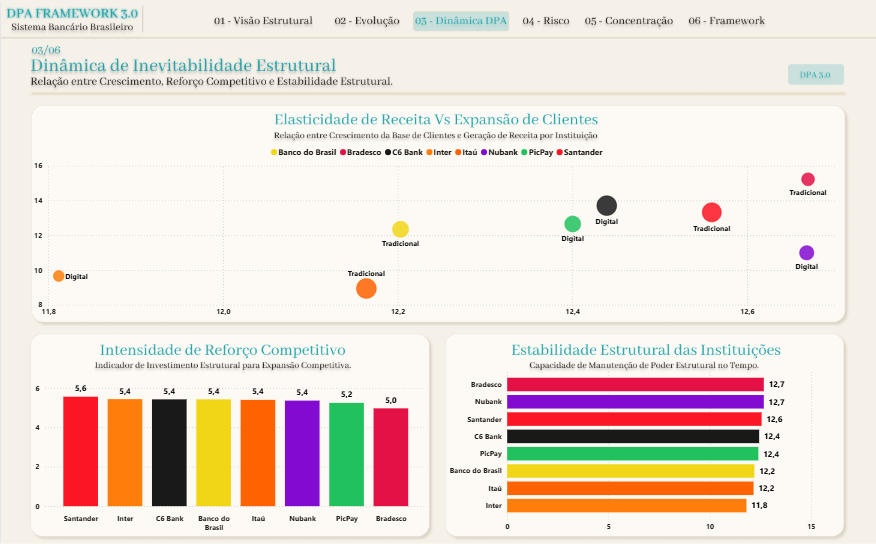

Layout of this report page (visuals, bound fields, positions):
{"tool":"powerbi","page":{"name":"Dinâmica DPA","canvas":[1460,909],"ordinal":2},"visuals":[{"type":"scatterChart","fields":{"X":["fato_financeiro_v2.Crescimento Clientes %"],"Y":["fato_financeiro_v2.Crescimento Receita %"],"Size":["fato_financeiro_v2.Clientes Totais"],"Series":["dim_banco_v2.nome_banco"],"Category":["dim_banco_v2.tipo_banco"]},"box":[50,233.8,1356.2,305],"z":0},{"type":"barChart","fields":{"Category":["dim_banco_v2.nome_banco"],"Y":["fato_financeiro_v2.Reforco"]},"box":[741.2,605,663.8,290],"z":1000},{"type":"columnChart","fields":{"Category":["dim_banco_v2.nome_banco"],"Y":["fato_financeiro_v2.Estabilidade"]},"box":[48.8,623.8,666.2,271.2],"z":2000},{"type":"pageNavigator","box":[342.5,12.5,933.8,48.8],"z":3000}]}

Visuals, with their boxes in screenshot pixels (x1, y1, x2, y2), scaled from the page's 1460x909 canvas onto the 876x544 screenshot:
scatterChart - fato_financeiro_v2.Crescimento Clientes % x fato_financeiro_v2.Crescimento Receita %: Rect(30, 140, 844, 322)
barChart - dim_banco_v2.nome_banco x fato_financeiro_v2.Reforco: Rect(445, 362, 843, 536)
columnChart - dim_banco_v2.nome_banco x fato_financeiro_v2.Estabilidade: Rect(29, 373, 429, 536)
pageNavigator: Rect(206, 7, 766, 37)
